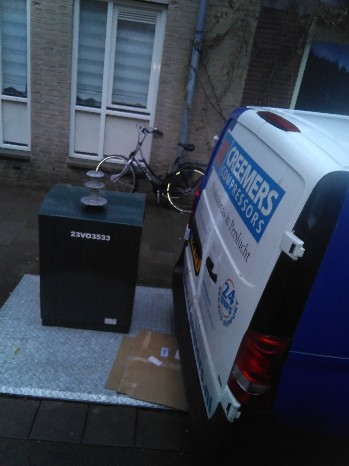Container: (46, 154, 131, 328)
Papier: (103, 338, 194, 412)
Voertuig: (217, 98, 349, 405), (127, 118, 183, 205)
